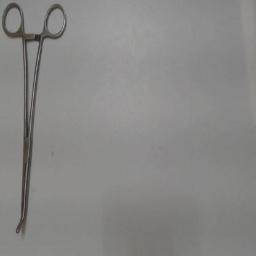Lahey Forceps: (1, 2, 69, 238)
